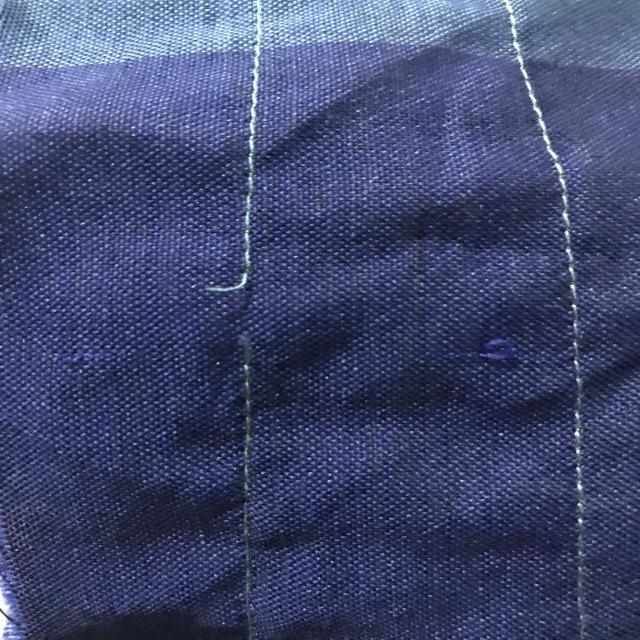broken: (190, 262, 298, 380)
